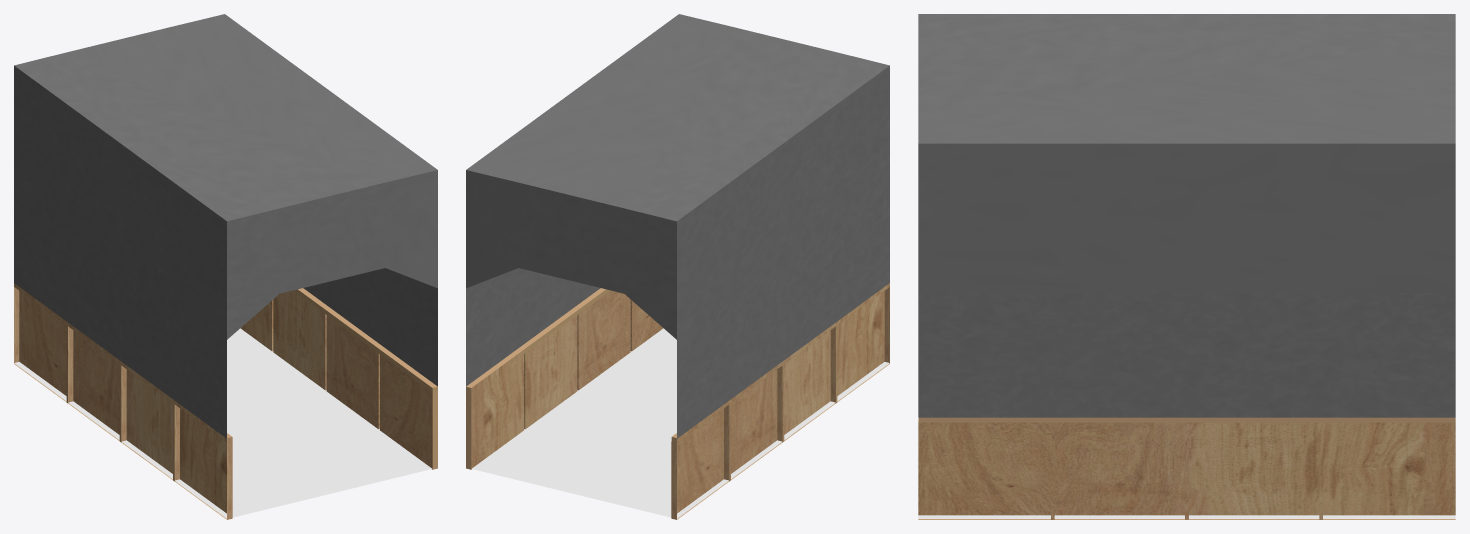
The model's file is InterimHallway.glb.
3 renders of one model, left to right at view 1: azimuth 30°, elevation 25°; view 2: azimuth 150°, elevation 25°; view 3: azimuth 270°, elevation 25°, orthographic. The views are drawn at different scales.
Visible parts, largest first — view 1: Hallway.003; view 2: Hallway.003; view 3: Hallway.003.
Boxes of the visible parts, bbox=[...] form: Hallway.003: bbox=[14, 14, 437, 519]; Hallway.003: bbox=[466, 14, 889, 519]; Hallway.003: bbox=[918, 14, 1455, 519].
Bounding box in the file's own units: 4 × 5.41 × 7.
Materials: 3 (2 with a texture image).
